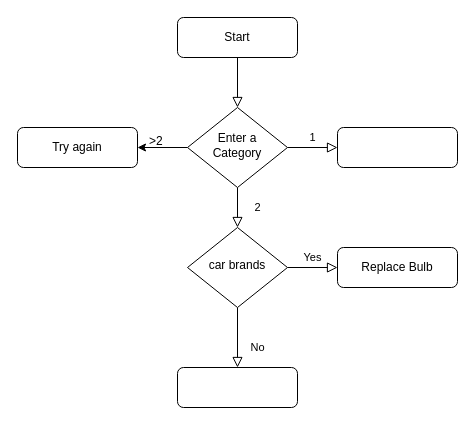
The diagram is 475 pixels wide and 425 high, and some of its shapes have lost their labels. Each missing label, with the centre of its shape:
animals: [397,147]
Repair Lamp: [237,387]
